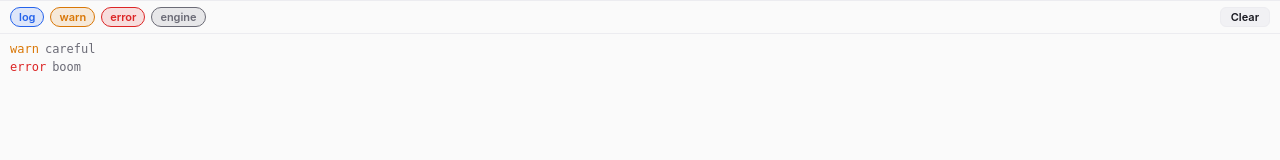
Test case: ConsolePane › toggling a filter chip hides matching lines
The width and height of the screenshot is (1280, 160).
Click the button "warn" at (73,17), box x1=50 y1=7 x2=95 y2=27
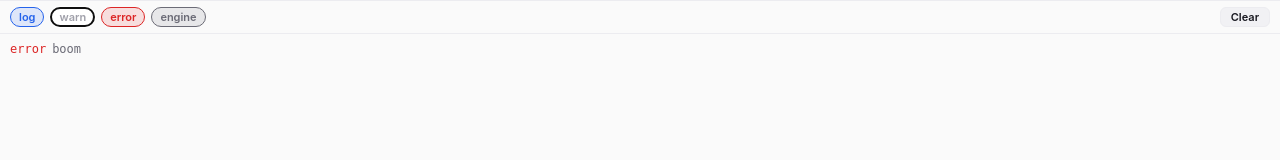
Check: the text "boom" is shown, box x1=52 y1=42 x2=81 y2=56
Check: the text "careful" is gone
